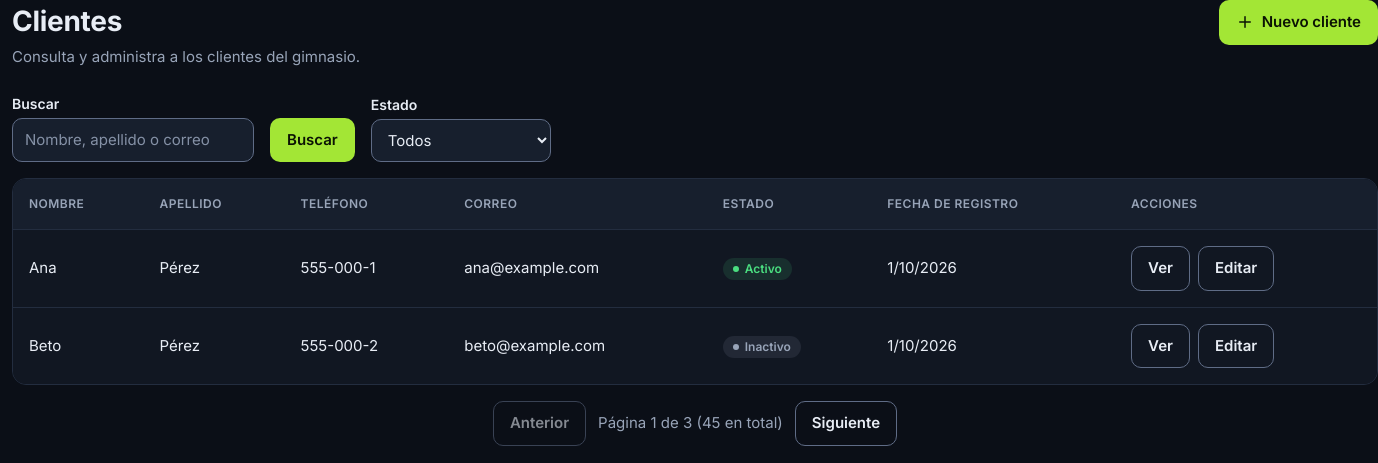
Clientes (lista) › pagina: muestra "Página 1 de 3" y al pulsar Siguiente pide la página 2
expect the text "Página 1 de 3 (45 en total)" is shown: met, box [598,412,783,434]
Click the button "Siguiente".
click(846, 423)  # box [795,401,897,446]
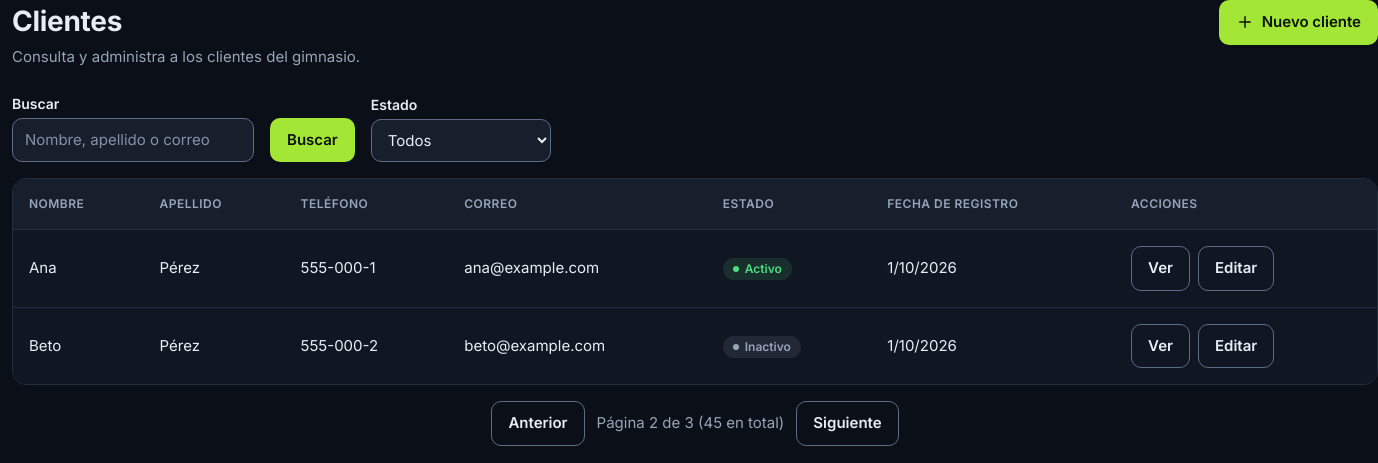
expect the text "Página 2 de 3 (45 en total)" is shown: met, box [597,412,784,434]
